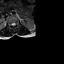CCS_normal: (12, 20, 14, 27)
LFS_normal: (15, 21, 17, 26)
LLS_normal: (14, 21, 15, 26)
RFS_normal: (9, 21, 11, 27)
RLS_normal: (11, 21, 12, 27)
